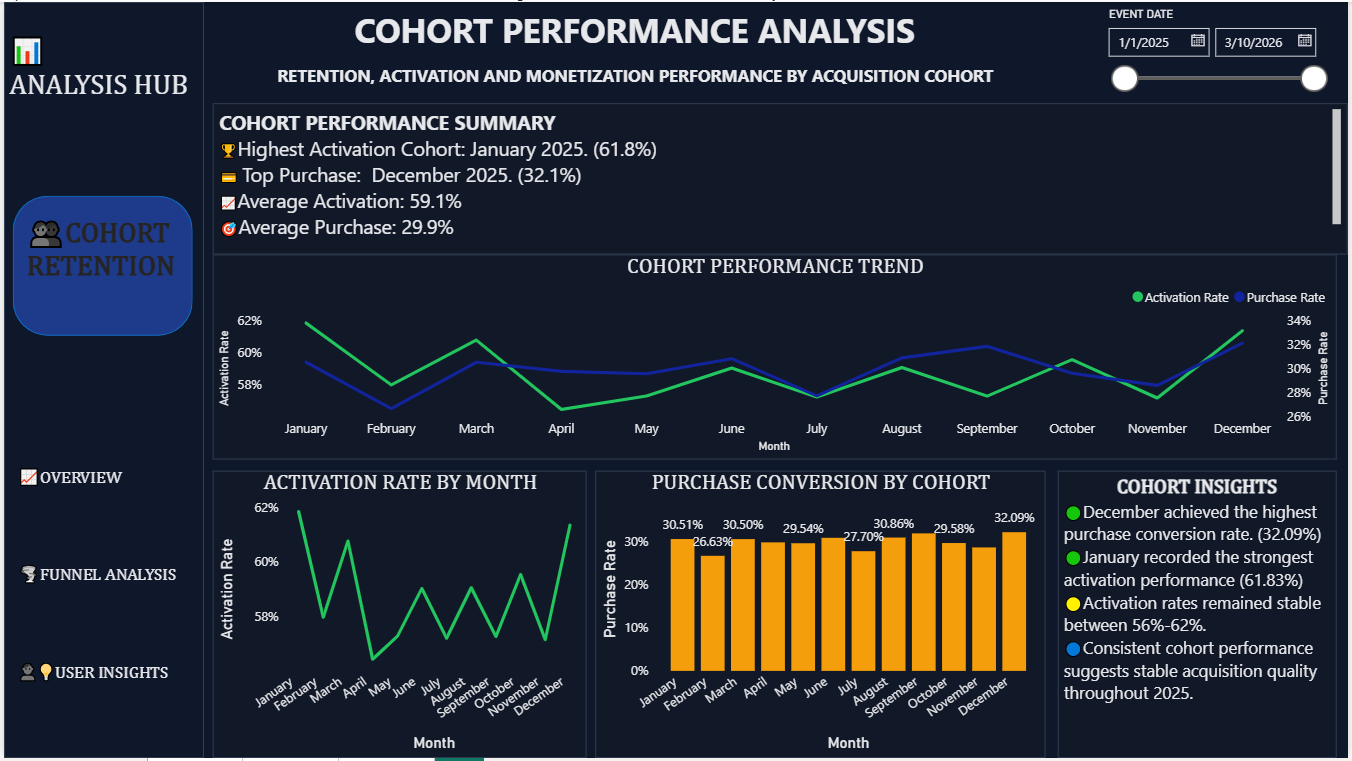

The dashboard page shown, as its layout file describes it:
{"tool":"powerbi","page":{"name":"Page 3","canvas":[1280,720],"ordinal":2},"visuals":[{"type":"shape","box":[0,0,190.5,720.2],"z":0},{"type":"textbox","box":[0,22.6,190.5,123.8],"z":1000},{"type":"shape","box":[8.3,184.5,171.4,133.3],"z":2000},{"type":"textbox","box":[16.7,195.2,163.1,113.1],"z":3000},{"type":"textbox","box":[8.3,435.7,171.4,254.8],"z":4000},{"type":"textbox","box":[198.8,0,803.6,53.6],"z":5000},{"type":"slicer","fields":{"Values":["events_csv.event_date"]},"box":[1039.3,0,229.8,96.4],"z":6000},{"type":"textbox","box":[198.8,53.6,804.8,42.9],"z":7000},{"type":"textbox","box":[198.8,96.4,1081,144],"z":7002},{"type":"lineChart","title":"COHORT PERFORMANCE TREND","fields":{"Y":["events_csv.Activation Rate"],"Category":["events_csv.Cohort Month Sort.Variation.Date Hierarchy.Month"],"Y2":["events_csv.Purchase Rate"]},"box":[198.8,240.5,1070.2,195.2],"z":7003},{"type":"columnChart","title":"PURCHASE CONVERSION BY COHORT","fields":{"Y":["events_csv.Purchase Rate"],"Category":["events_csv.Cohort Month 1"]},"box":[563.1,446.4,428.6,273.8],"z":7004},{"type":"textbox","box":[1003.6,446.4,265.5,273.8],"z":7006},{"type":"lineChart","title":"ACTIVATION RATE BY MONTH","fields":{"Y":["events_csv.Activation Rate"],"Category":["events_csv.Cohort Month 1"]},"box":[198.8,446.4,356,273.8],"z":7007}]}

Visuals, with their boxes on the page's 1280x720 design canvas (x1, y1, x2, y2). These are canvas units, not pixel positions in the 1352x761 screenshot, which may show the page scaled, cropped or inside an application window:
shape: crop(0, 0, 190, 720)
textbox: crop(0, 23, 190, 146)
shape: crop(8, 184, 180, 318)
textbox: crop(17, 195, 180, 308)
textbox: crop(8, 436, 180, 690)
textbox: crop(199, 0, 1002, 54)
slicer - events_csv.event_date: crop(1039, 0, 1269, 96)
textbox: crop(199, 54, 1004, 96)
textbox: crop(199, 96, 1280, 240)
"COHORT PERFORMANCE TREND" lineChart: crop(199, 240, 1269, 436)
"PURCHASE CONVERSION BY COHORT" columnChart: crop(563, 446, 992, 720)
textbox: crop(1004, 446, 1269, 720)
"ACTIVATION RATE BY MONTH" lineChart: crop(199, 446, 555, 720)
